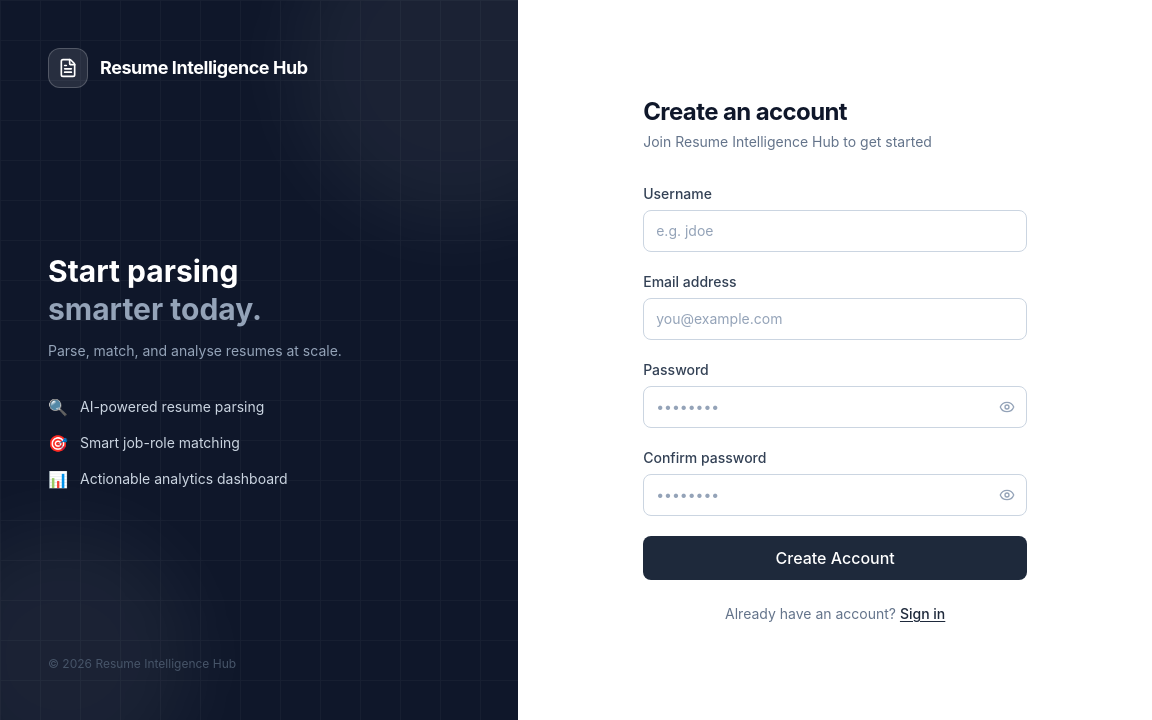
it: RegisterPage — field validation › shows errors when all fields are empty and form is submitted
Click the button "Create Account" at (835, 558), box x1=643 y1=536 x2=1027 y2=580
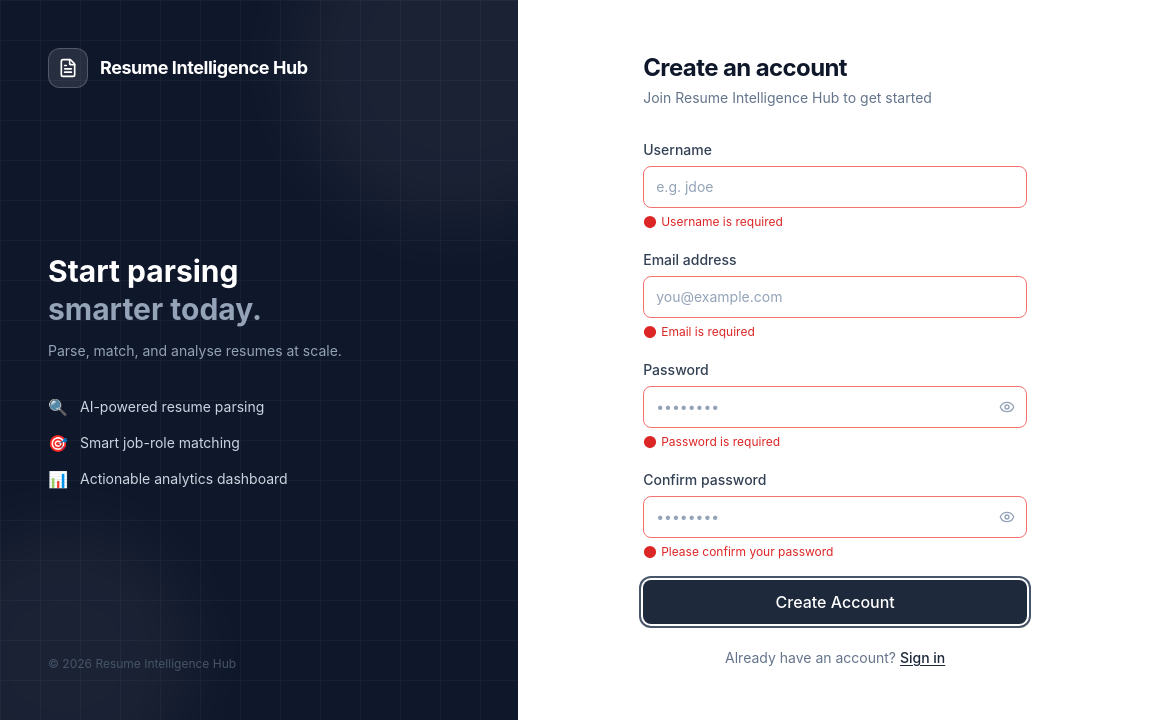
Expected: the message "Username is required" is shown, x1=643 y1=214 x2=783 y2=229
